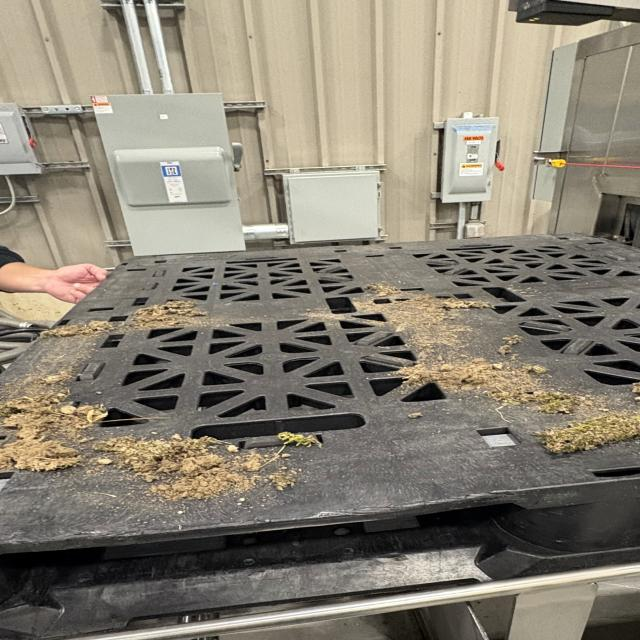igps: (0, 227, 640, 640)
